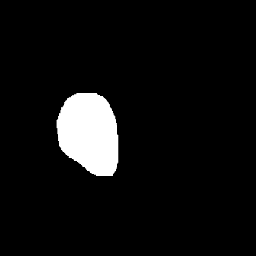mass: (57, 92, 116, 168)
